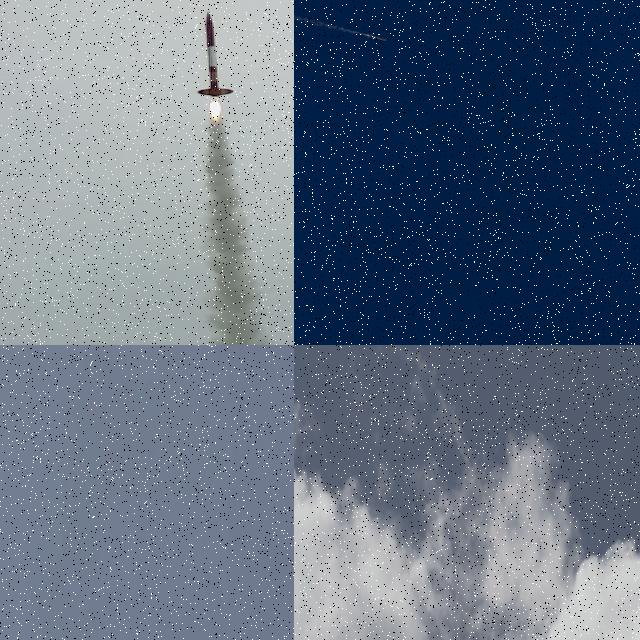Rocket: (197, 10, 234, 97), (366, 34, 386, 41), (523, 622, 526, 630)
